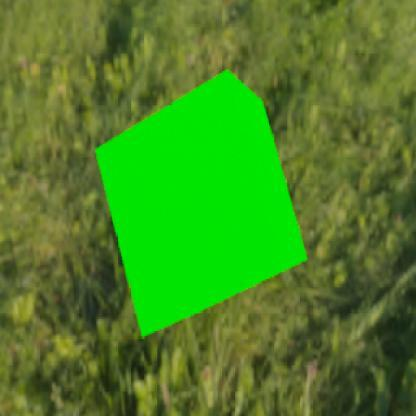cube: (95, 67, 307, 336)
